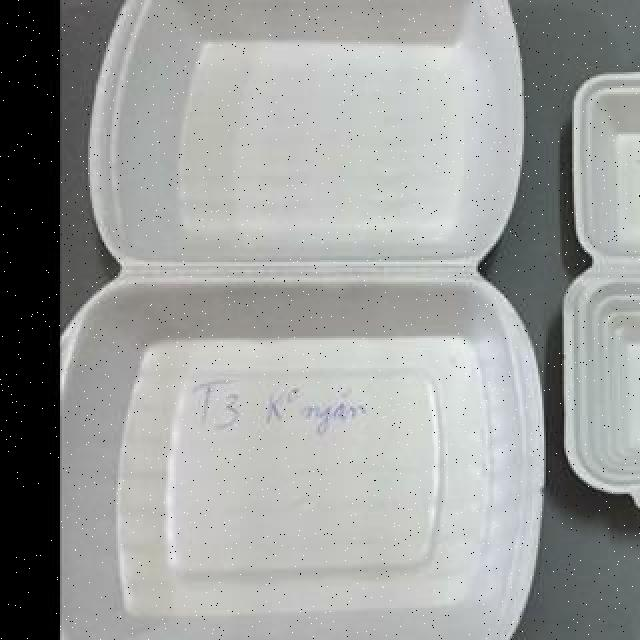styrofoam: (56, 0, 548, 638), (558, 64, 638, 524)
